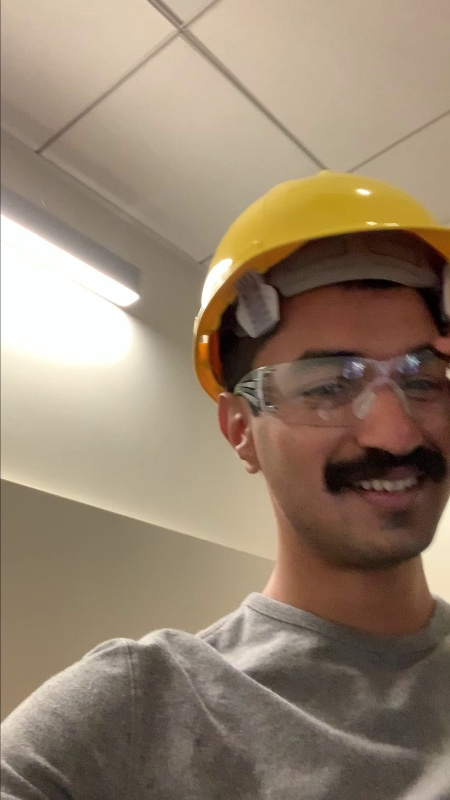glasses: (247, 345, 450, 426)
helmet: (185, 166, 450, 355)
